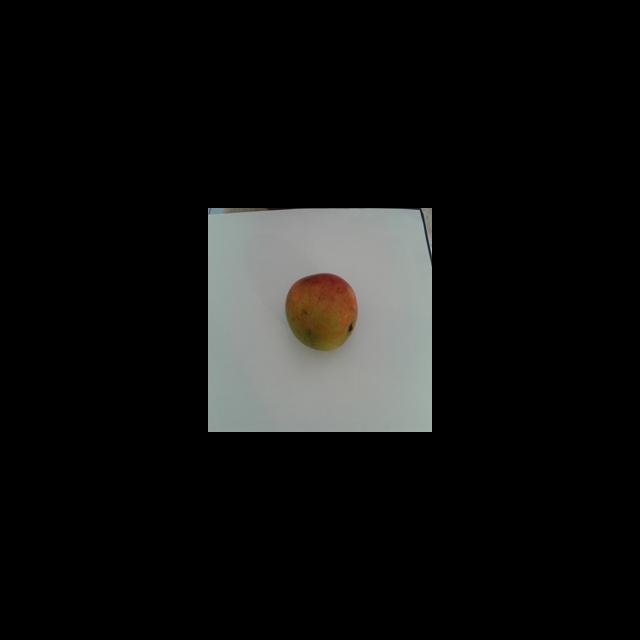Mango: (284, 272, 357, 351)
